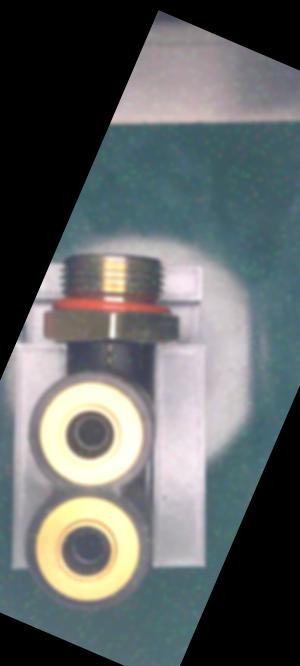craze: (96, 339, 122, 372)
